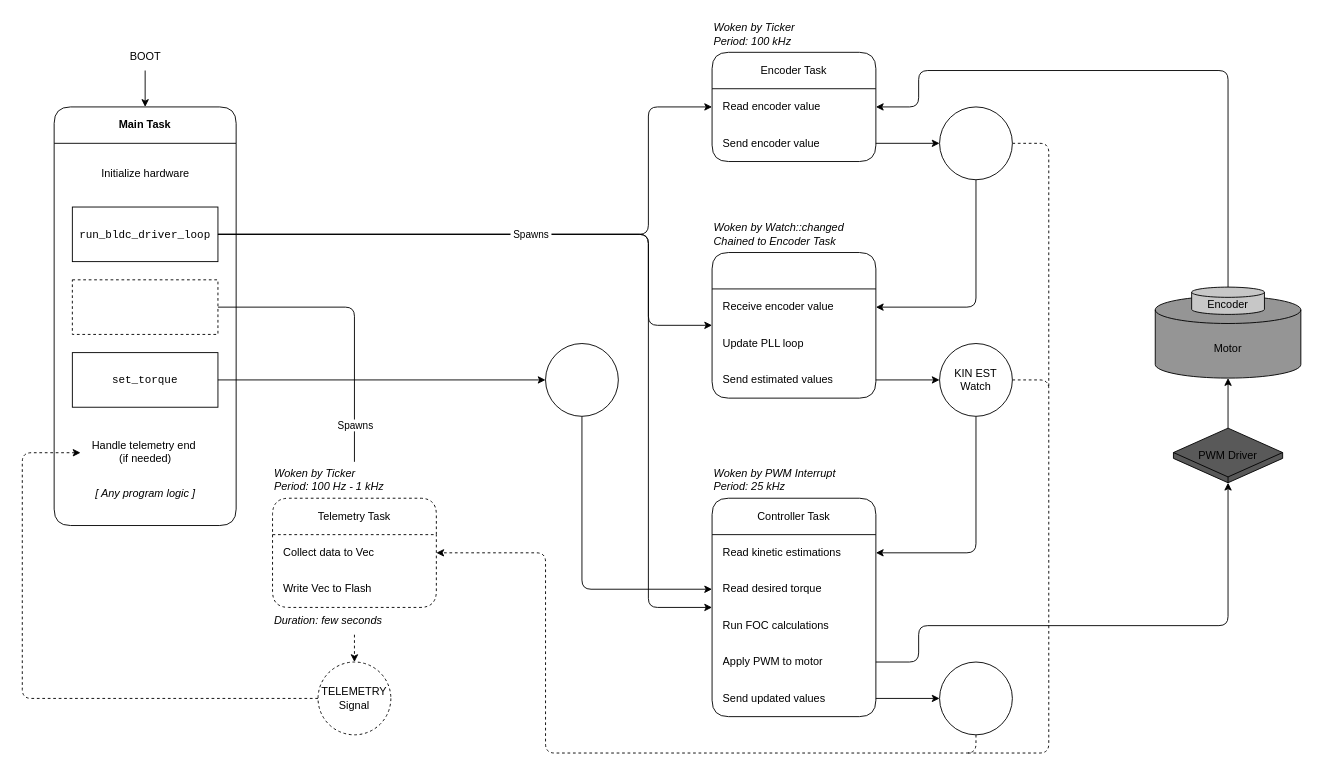
The diagram is 1317 pixels wide and 776 high, and some of its shapes have lost their labels. Here are the shapes that lost their labels. From the top down, the box of each, then its label:
(939, 106, 1012, 180): ENCODER Watch
(71, 279, 218, 334): run_telemetry
(711, 252, 876, 398): PLL Observer Task
(545, 343, 618, 416): TORQUE Watch
(939, 661, 1012, 735): CONTROL Watch
